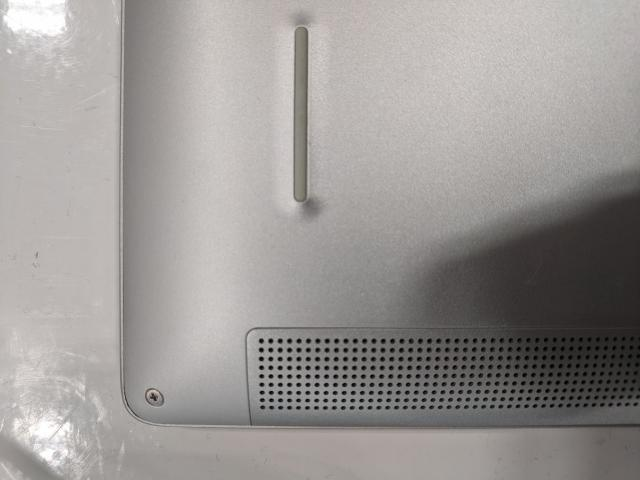CRS: (142, 387, 162, 407)
